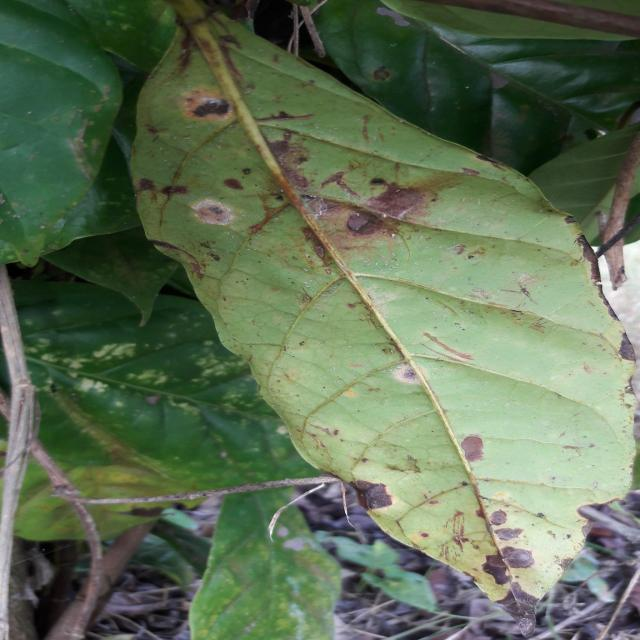Enfermedad-Roya: (124, 0, 640, 621)
